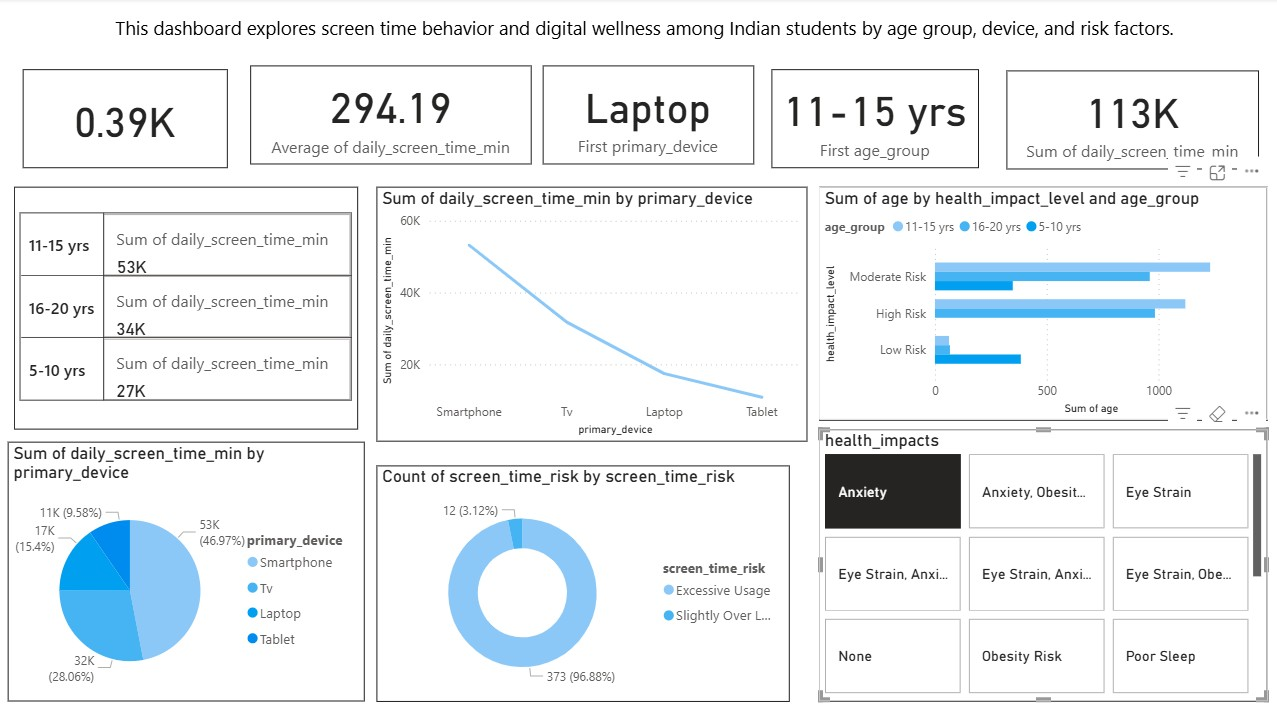

What the dashboard file says about the page in this screenshot:
{"tool":"powerbi","page":{"name":"Page 1","canvas":[1280,720],"ordinal":0},"visuals":[{"type":"card","title":"Total no of Kids","fields":{"Values":["CountNonNull(Indian_Kids_Screen_Time_Cleaned.age)"]},"box":[28.8,71.2,203.8,98.8],"z":0},{"type":"card","fields":{"Values":["Avg(Indian_Kids_Screen_Time_Cleaned.daily_screen_time_min)"]},"box":[255,67.5,280,98.8],"z":1},{"type":"card","fields":{"Values":["Min(Indian_Kids_Screen_Time_Cleaned.primary_device)"]},"box":[546.2,67.5,210,98.8],"z":2},{"type":"card","fields":{"Values":["Min(Indian_Kids_Screen_Time_Cleaned.age_group)"]},"box":[773.8,71.2,206.2,98.8],"z":3},{"type":"card","fields":{"Values":["Sum(Indian_Kids_Screen_Time_Cleaned.daily_screen_time_min)"]},"box":[1007.5,72.5,251.2,98.8],"z":4},{"type":"clusteredBarChart","fields":{"Category":["Indian_Kids_Screen_Time_Cleaned.health_impact_level"],"Series":["Indian_Kids_Screen_Time_Cleaned.age_group"],"Y":["Sum(Indian_Kids_Screen_Time_Cleaned.age)"]},"box":[821.2,187.5,446.2,232.5],"z":6},{"type":"advancedSlicerVisual","fields":{"Values":["Indian_Kids_Screen_Time_Cleaned.health_impacts"]},"box":[821.2,428.8,446.2,271.2],"z":7},{"type":"lineChart","fields":{"Category":["Indian_Kids_Screen_Time_Cleaned.primary_device"],"Y":["Sum(Indian_Kids_Screen_Time_Cleaned.daily_screen_time_min)"]},"box":[381.2,187.5,428.8,253.8],"z":8},{"type":"pieChart","fields":{"Y":["Sum(Indian_Kids_Screen_Time_Cleaned.daily_screen_time_min)"],"Category":["Indian_Kids_Screen_Time_Cleaned.primary_device"]},"box":[13.8,441.2,355,258.8],"z":9},{"type":"cardVisual","fields":{"Rows":["Indian_Kids_Screen_Time_Cleaned.age_group"],"Data":["Sum(Indian_Kids_Screen_Time_Cleaned.daily_screen_time_min)"]},"box":[20,187.5,342.5,241.2],"z":10},{"type":"donutChart","fields":{"Category":["Indian_Kids_Screen_Time_Cleaned.screen_time_risk"],"Y":["CountNonNull(Indian_Kids_Screen_Time_Cleaned.screen_time_risk)"]},"box":[381.2,465,411.2,235],"z":11},{"type":"textbox","box":[28.8,12.5,1237.5,41.2],"z":12}]}

Visuals, with their boxes in screenshot pixels (x1, y1, x2, y2), scaled from the page's 1280x720 canvas onto the 1277x718 screenshot:
"Total no of Kids" card: box=[29, 71, 232, 170]
card - Avg(Indian_Kids_Screen_Time_Cleaned.daily_screen_time_min): box=[254, 67, 534, 166]
card - Min(Indian_Kids_Screen_Time_Cleaned.primary_device): box=[545, 67, 754, 166]
card - Min(Indian_Kids_Screen_Time_Cleaned.age_group): box=[772, 71, 978, 170]
card - Sum(Indian_Kids_Screen_Time_Cleaned.daily_screen_time_min): box=[1005, 72, 1256, 171]
clusteredBarChart - Indian_Kids_Screen_Time_Cleaned.health_impact_level x Indian_Kids_Screen_Time_Cleaned.age_group: box=[819, 187, 1264, 419]
advancedSlicerVisual - Indian_Kids_Screen_Time_Cleaned.health_impacts: box=[819, 428, 1264, 698]
lineChart - Indian_Kids_Screen_Time_Cleaned.primary_device x Sum(Indian_Kids_Screen_Time_Cleaned.daily_screen_time_min): box=[380, 187, 808, 440]
pieChart - Sum(Indian_Kids_Screen_Time_Cleaned.daily_screen_time_min) x Indian_Kids_Screen_Time_Cleaned.primary_device: box=[14, 440, 368, 698]
cardVisual - Indian_Kids_Screen_Time_Cleaned.age_group x Sum(Indian_Kids_Screen_Time_Cleaned.daily_screen_time_min): box=[20, 187, 362, 428]
donutChart - Indian_Kids_Screen_Time_Cleaned.screen_time_risk x CountNonNull(Indian_Kids_Screen_Time_Cleaned.screen_time_risk): box=[380, 464, 791, 698]
textbox: box=[29, 12, 1263, 54]
